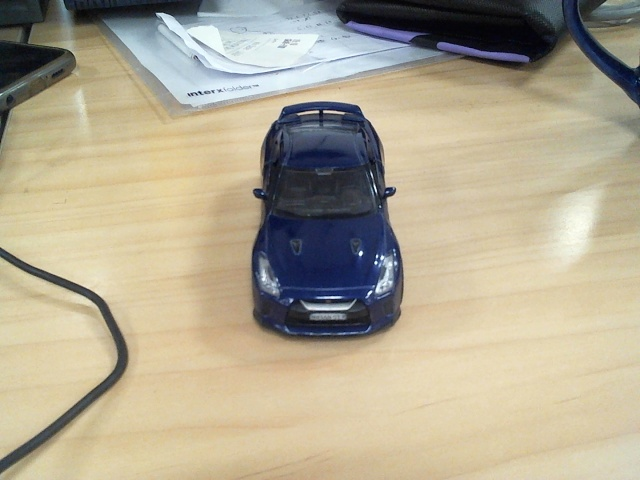car: (250, 101, 405, 338)
